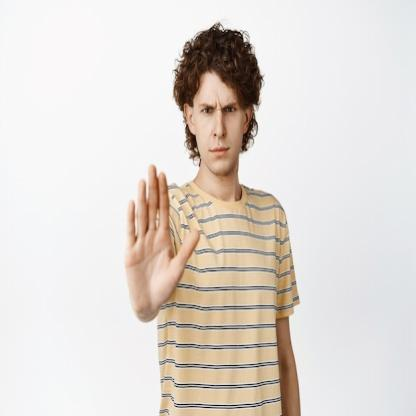stop: (121, 160, 202, 322)
